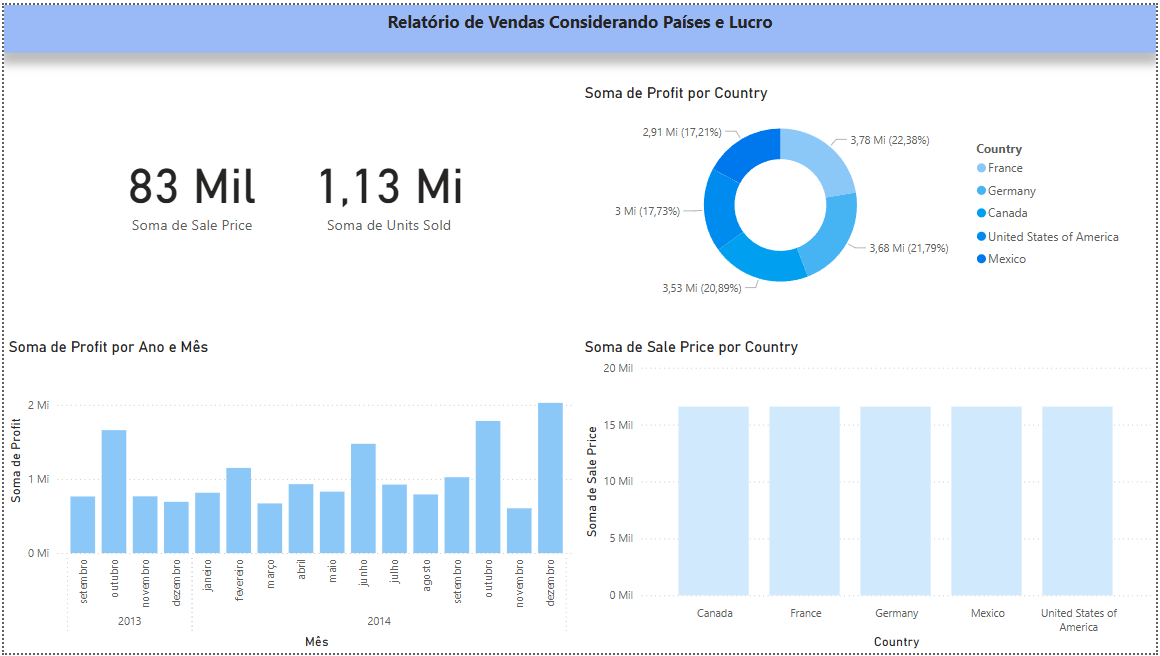

This screenshot's page, from the dashboard's own definition file:
{"tool":"powerbi","page":{"name":"Página 2","canvas":[1280,720],"ordinal":1},"visuals":[{"type":"textbox","box":[0,0,1280,52.9],"z":0},{"type":"card","fields":{"Values":["Sum(financials.Sale Price)"]},"box":[102.2,130,213.3,150],"z":1000},{"type":"card","fields":{"Values":["Sum(financials.Units Sold)"]},"box":[315.6,130,224.4,150],"z":2000},{"type":"donutChart","fields":{"Category":["financials.Country"],"Y":["Sum(financials.Profit)"]},"box":[640,87.8,613.3,250],"z":3000},{"type":"columnChart","fields":{"Category":["financials.Date.Variation.Hierarquia de datas.Ano","financials.Date.Variation.Hierarquia de datas.Mês"],"Y":["Sum(financials.Profit)"]},"box":[0,370,640,350],"z":4000},{"type":"clusteredColumnChart","fields":{"Category":["financials.Country"],"Y":["Sum(financials.Sale Price)"]},"box":[640,370,640,350],"z":5000}]}

Visuals, with their boxes in screenshot pixels (x1, y1, x2, y2), scaled from the page's 1280x720 canvas onto the 1160x656 screenshot:
textbox: l=0, t=0, r=1159, b=48
card - Sum(financials.Sale Price): l=93, t=118, r=286, b=255
card - Sum(financials.Units Sold): l=286, t=118, r=489, b=255
donutChart - financials.Country x Sum(financials.Profit): l=580, t=80, r=1136, b=308
columnChart - financials.Date.Variation.Hierarquia de datas.Ano x financials.Date.Variation.Hierarquia de datas.Mês: l=0, t=337, r=580, b=655
clusteredColumnChart - financials.Country x Sum(financials.Sale Price): l=580, t=337, r=1159, b=655
